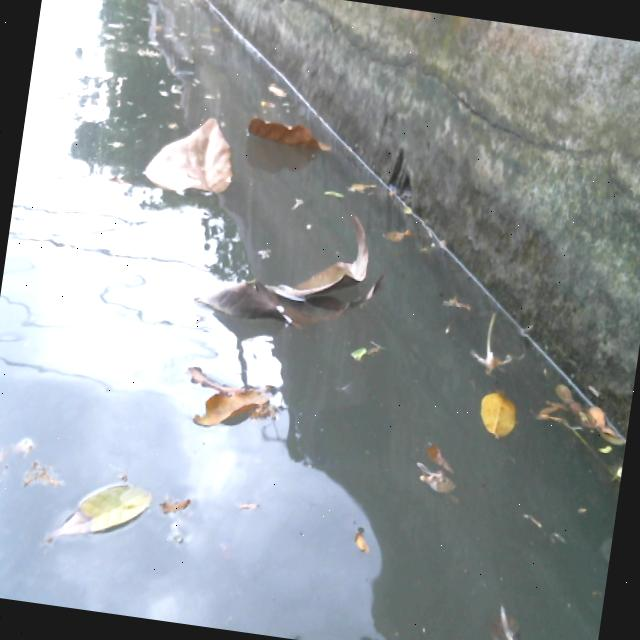Big-leaf: (194, 211, 388, 353), (171, 362, 300, 463), (138, 105, 244, 204), (246, 103, 345, 159)
Small-leaf: (47, 464, 159, 568), (470, 366, 524, 449), (489, 585, 537, 640), (420, 448, 467, 502), (443, 288, 491, 322), (348, 171, 392, 206), (266, 73, 301, 108), (161, 493, 198, 526), (324, 183, 368, 206), (388, 218, 415, 248)
